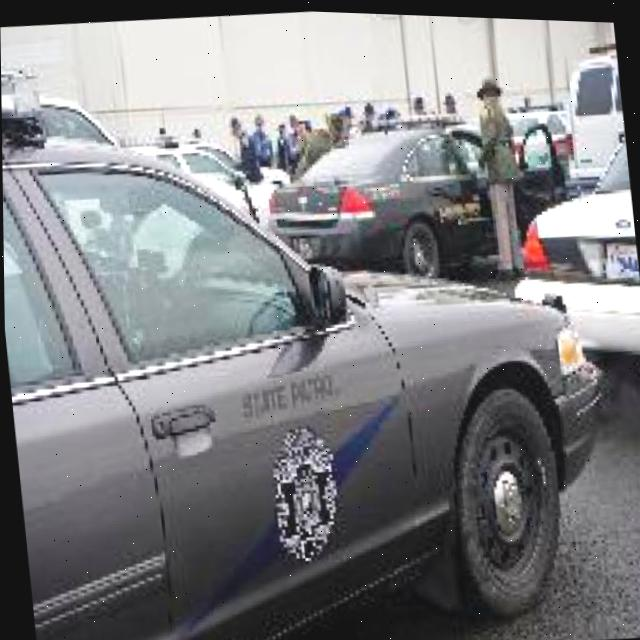emergency: (1, 63, 629, 640)
